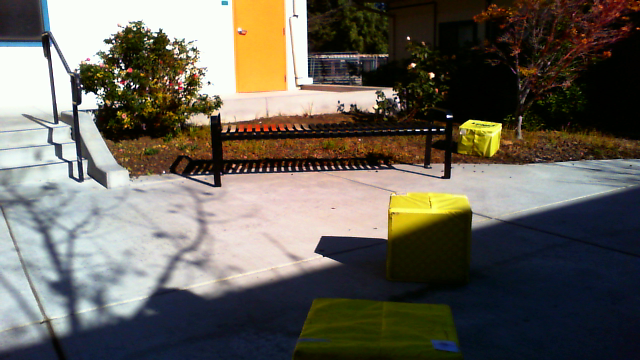cube: (292, 297, 463, 360), (386, 193, 473, 279), (458, 119, 501, 157)
